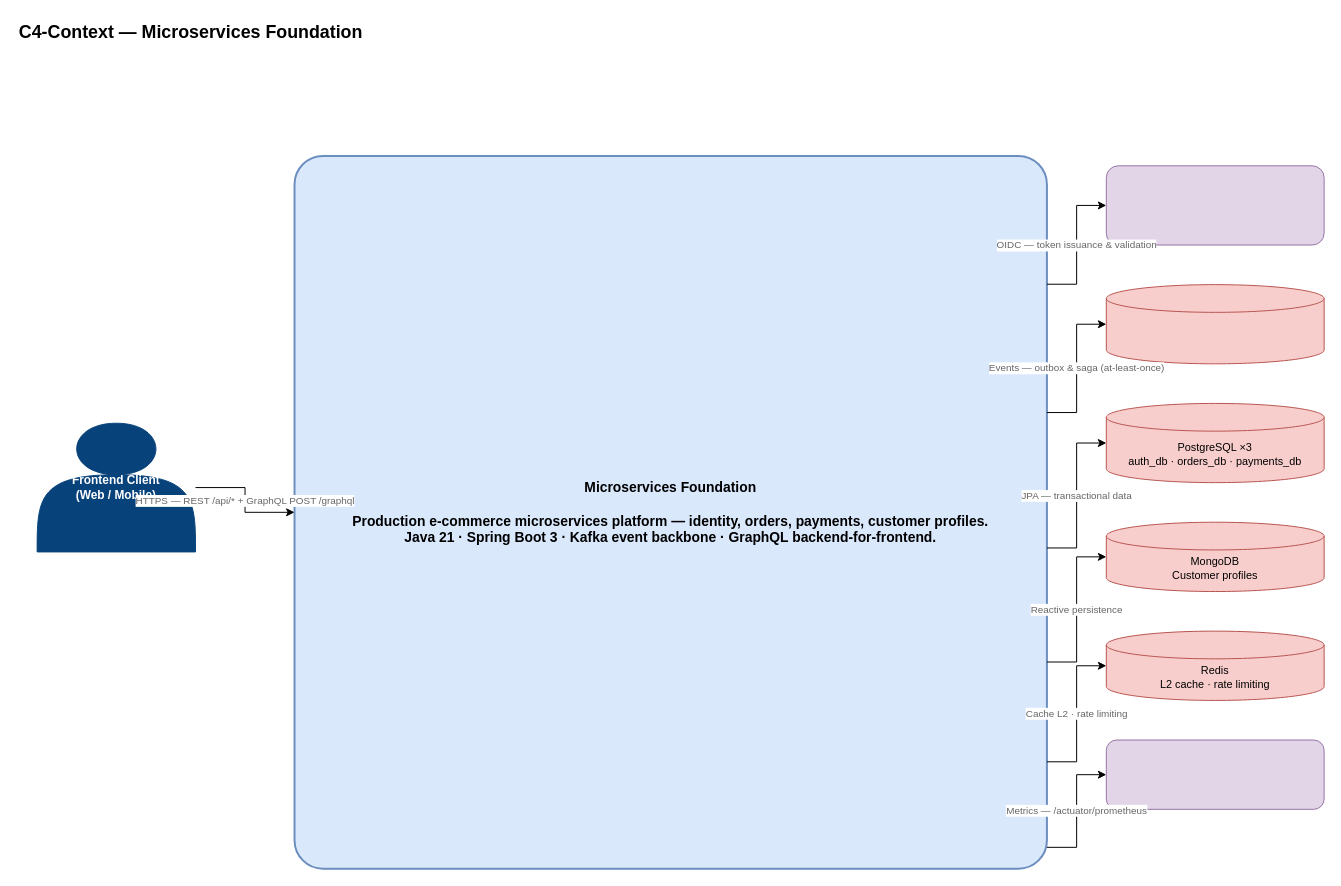
Some shapes in this 1341 by 886 pixel diagram are drawn without their labels. Here are the shapes that lost their labels. From the top down, the box of each, then its label:
(1105, 165, 1324, 245): Keycloak Identity provider — OIDC MFA (TOTP) · SSO (GitHub / Google)
(1105, 284, 1324, 364): Apache Kafka (KRaft) Event backbone — at-least-once outbox · saga · dedup
(1105, 739, 1324, 809): Prometheus + Grafana Metrics · alert rules · dashboards
